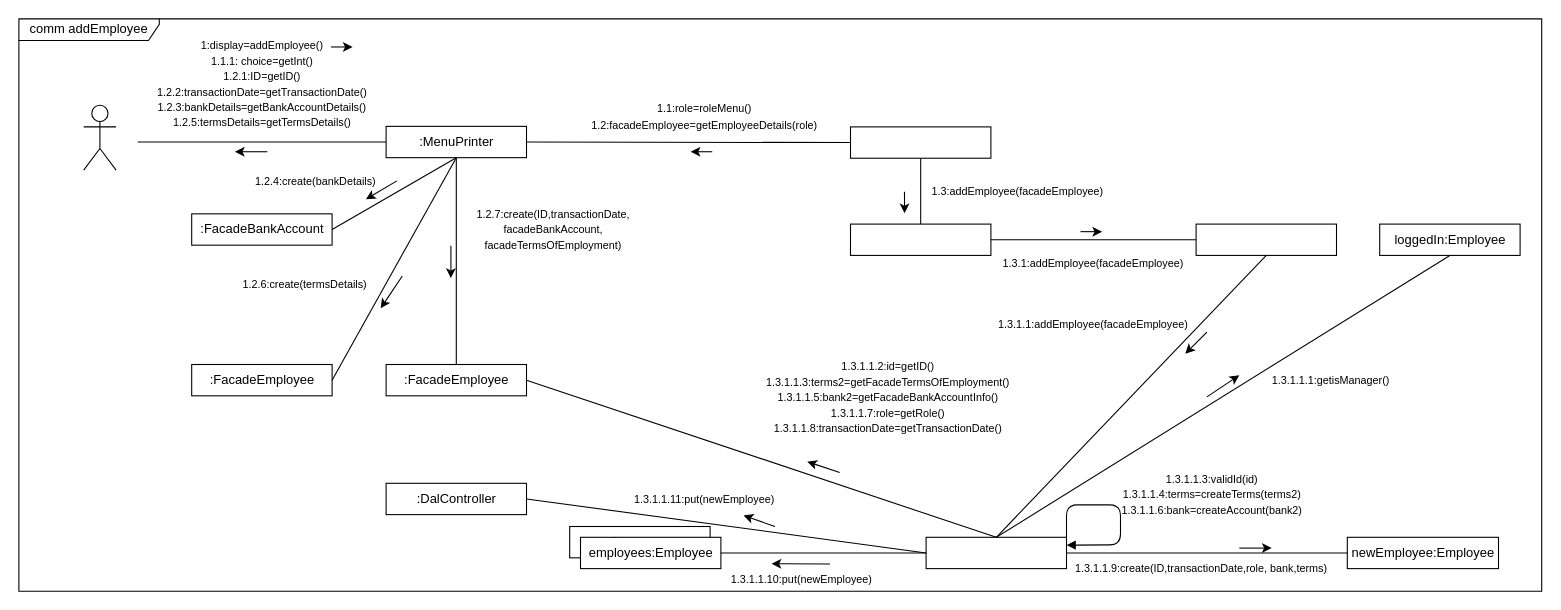
Some shapes in this 1561 by 610 pixel diagram are drawn without their labels. Each missing label, with the centre of its shape:
:EmployeeController: point 995,552
:EmployeeService: point 1265,239
:FacadeService: point 920,239
:PresentationController: point 920,142
human resource manager: point 99,137
